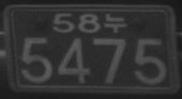4: (57, 36, 90, 84)
5: (133, 36, 167, 86), (20, 36, 52, 84), (52, 11, 75, 33)
7: (92, 36, 126, 84)
8: (78, 12, 101, 33)
누: (104, 12, 127, 34)
